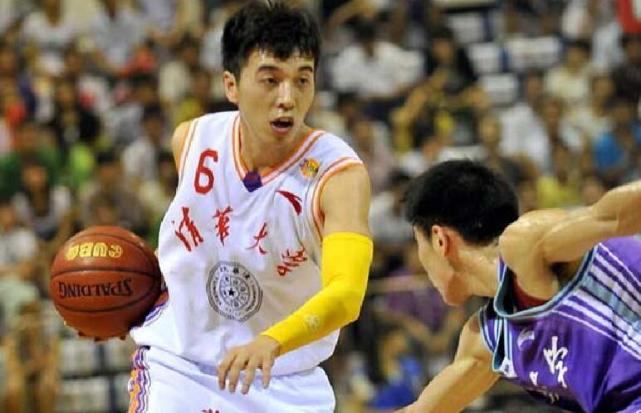ball: (49, 224, 162, 339)
